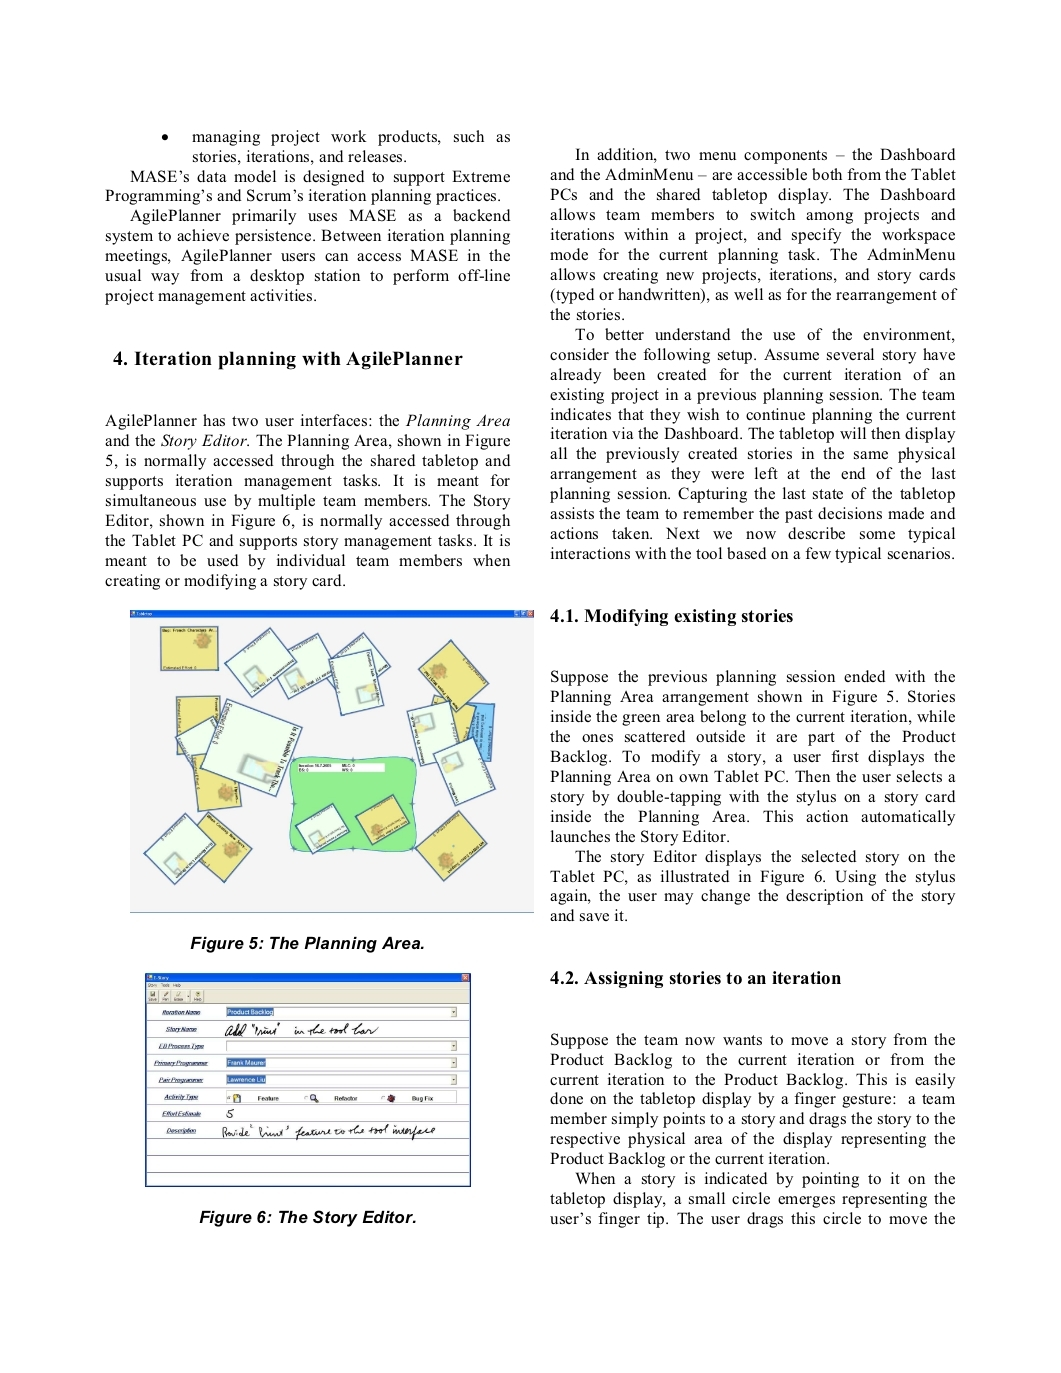figure: (130, 610, 533, 912), (145, 972, 470, 1187)
